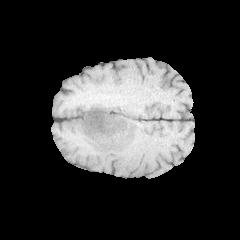glioma: (67, 103, 139, 154)
